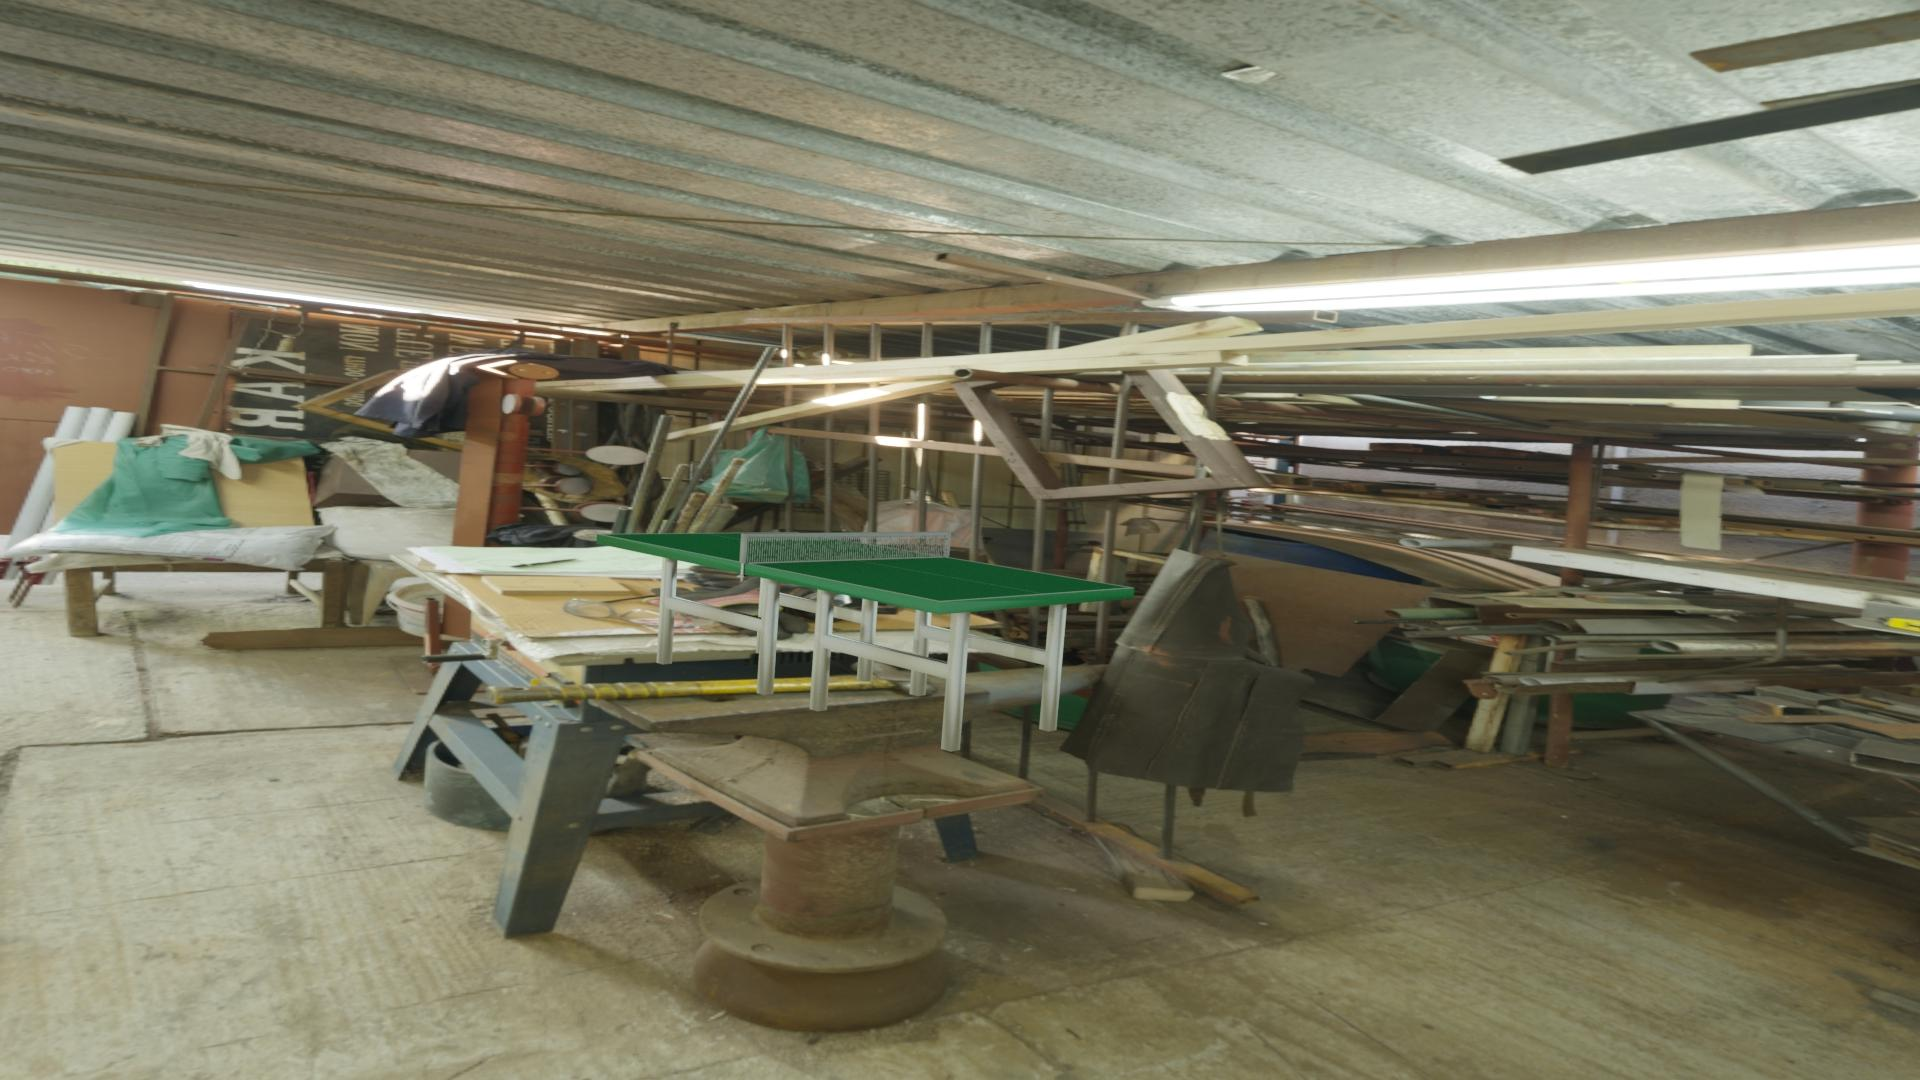table: (601, 533, 1130, 601)
